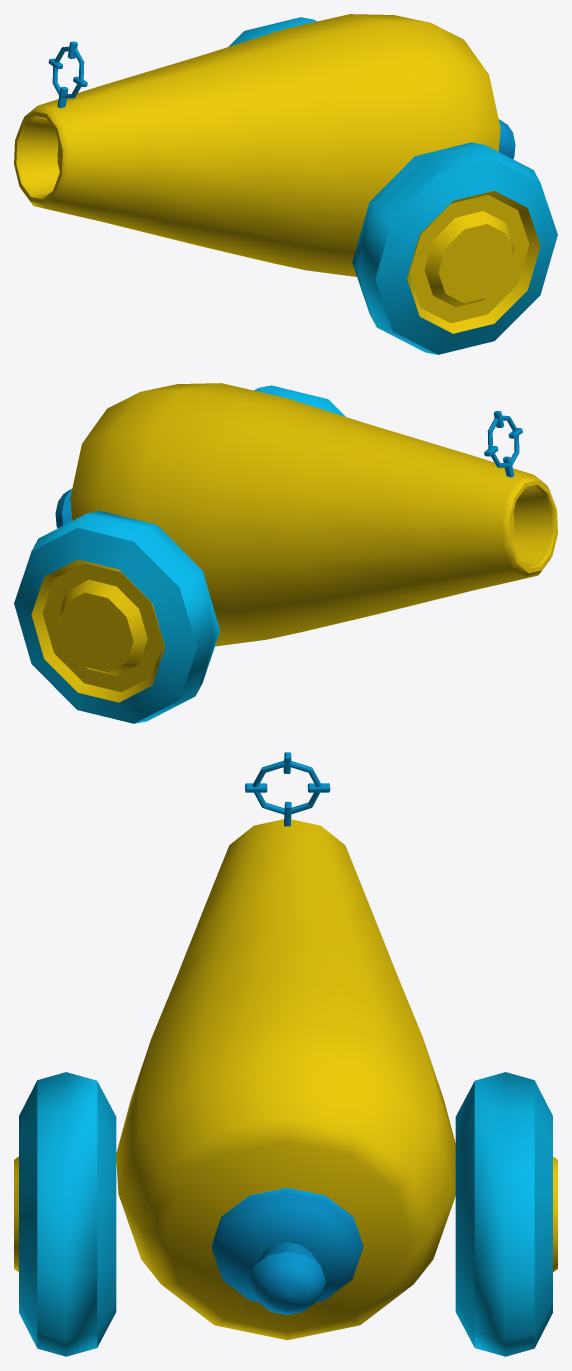
File: cannon.fbx
3 views of the same model, one above another, from view 1: azimuth 30°, elevation 25°; view 2: azimuth 150°, elevation 25°; view 3: azimuth 270°, elevation 25° (orthographic). The views are drawn at different scales.
Visible parts, largest first — view 1: polySurface1, pCylinder2, pCube8, pCylinder3, polySurface2; view 2: polySurface1, pCylinder3, pCube8, pCylinder2, polySurface2; view 3: polySurface1, pCylinder2, pCylinder3, polySurface2, pCube8.
Boxes of the visible parts, bbox=[...] form: polySurface1: bbox=[14, 14, 500, 276]; pCylinder2: bbox=[352, 142, 557, 354]; pCube8: bbox=[48, 41, 87, 108]; pCylinder3: bbox=[228, 17, 316, 46]; polySurface2: bbox=[498, 119, 515, 159]; polySurface1: bbox=[70, 383, 557, 646]; pCylinder3: bbox=[14, 511, 219, 723]; pCube8: bbox=[484, 411, 522, 477]; pCylinder2: bbox=[254, 385, 345, 416]; polySurface2: bbox=[55, 488, 72, 528]; polySurface1: bbox=[116, 819, 455, 1340]; pCylinder2: bbox=[14, 1072, 116, 1356]; pCylinder3: bbox=[455, 1072, 557, 1356]; polySurface2: bbox=[211, 1187, 363, 1315]; pCube8: bbox=[245, 752, 330, 826].
Size of the model in its own units: 18.61 by 11.56 by 14.24.
